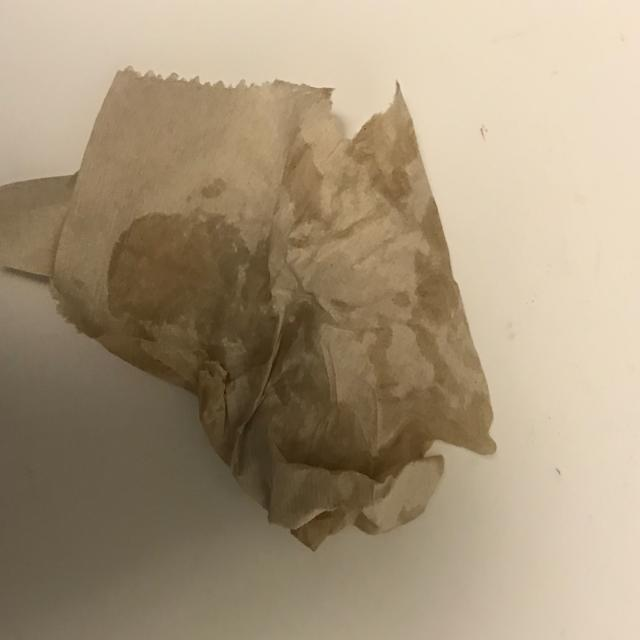trash: (0, 65, 498, 552)
